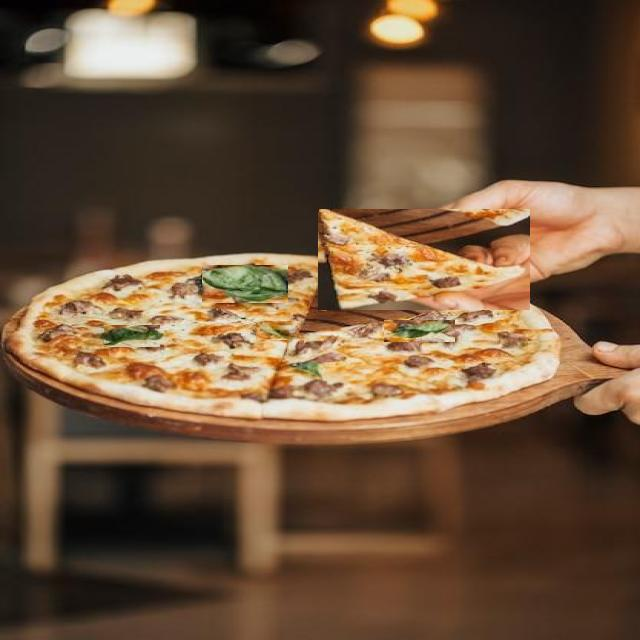basil: (202, 265, 288, 303), (384, 320, 455, 342), (104, 325, 160, 347), (256, 321, 297, 340), (292, 358, 325, 379)
pizza: (12, 252, 562, 422), (318, 209, 530, 310)
